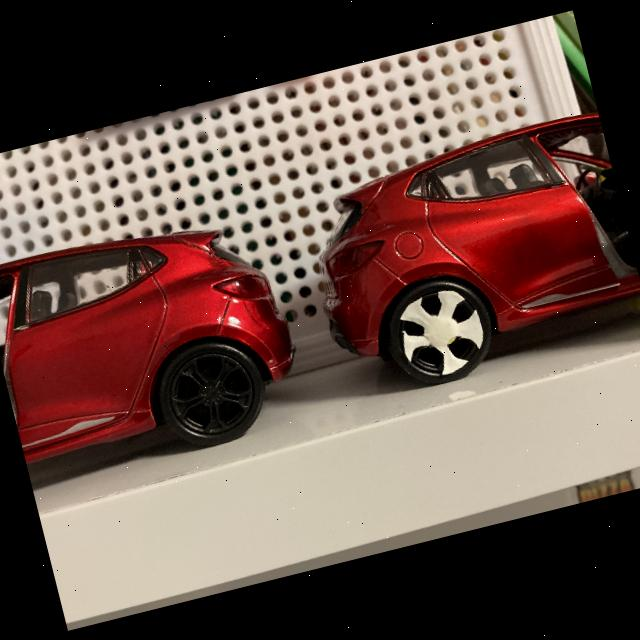Dogru_Jant: (166, 351, 256, 438)
Yanlis_Jant: (392, 282, 492, 384)
